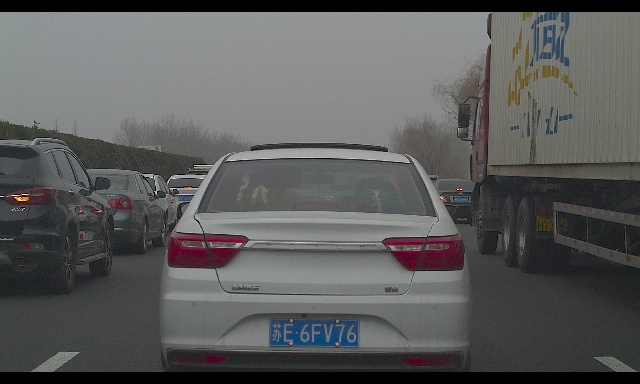car: (159, 142, 472, 372), (0, 138, 114, 293), (64, 169, 167, 254), (112, 174, 180, 236), (164, 174, 225, 232), (430, 179, 480, 221)
truck: (457, 12, 640, 273)
